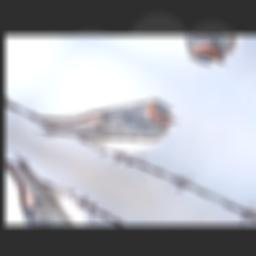Swallow: (23, 60, 185, 180)
